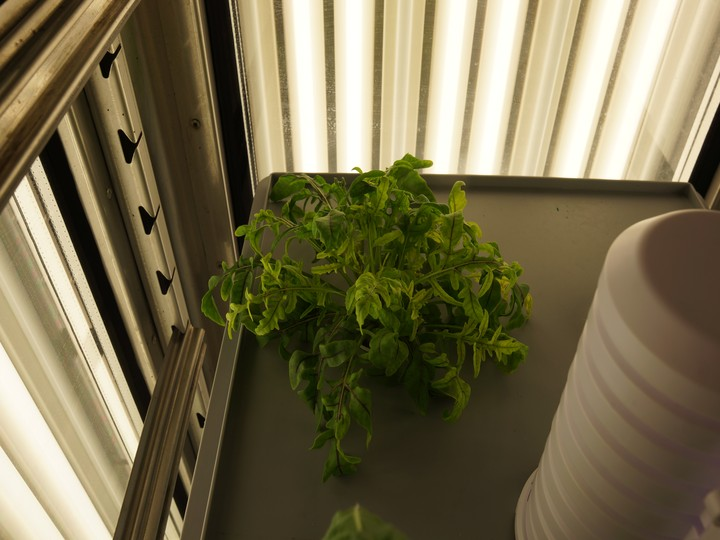roquette_sauvage_red_veined: (192, 147, 557, 488)
